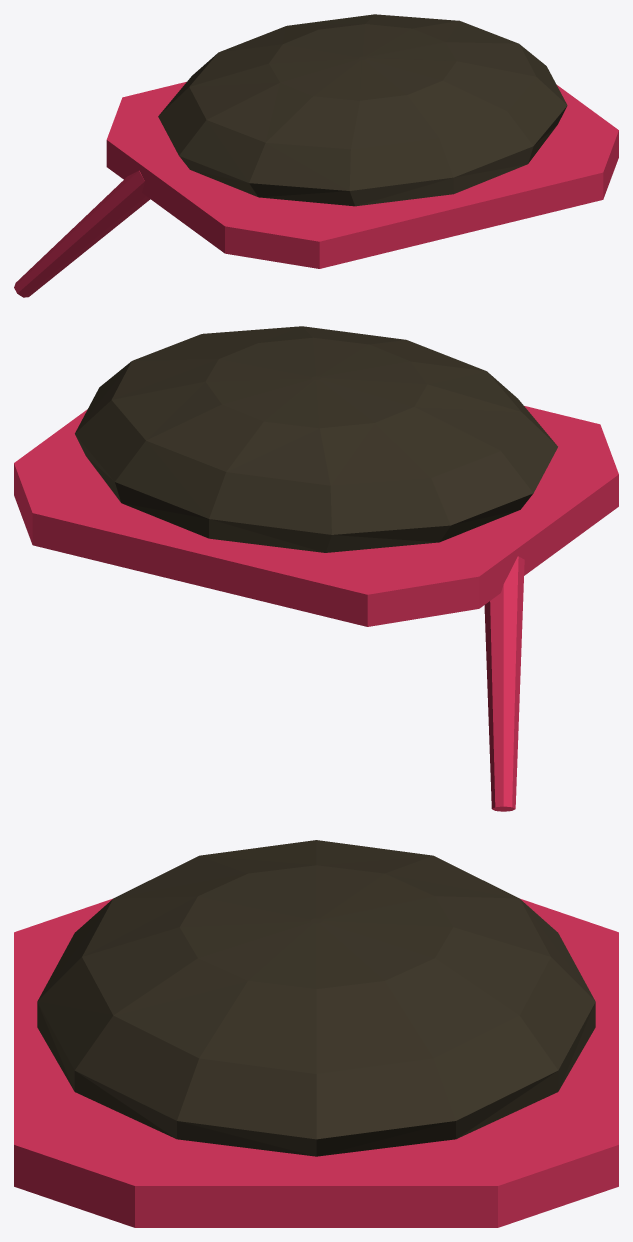
Rendered from headband.glb.
The picture shows the model from 3 angles, top to bottom: view 1: azimuth 30°, elevation 25°; view 2: azimuth 150°, elevation 25°; view 3: azimuth 270°, elevation 25°; orthographic projection. The views are drawn at different scales.
Parts seen in each view (by area): view 1: Neon Headband.002; view 2: Neon Headband.002; view 3: Neon Headband.002.
Boxes of the visible parts, <box> form: Neon Headband.002: <box>14,14,618,297</box>; Neon Headband.002: <box>14,326,618,811</box>; Neon Headband.002: <box>14,840,618,1227</box>.
Size of the model in its own units: 0.6786 by 0.3468 by 0.5101.
